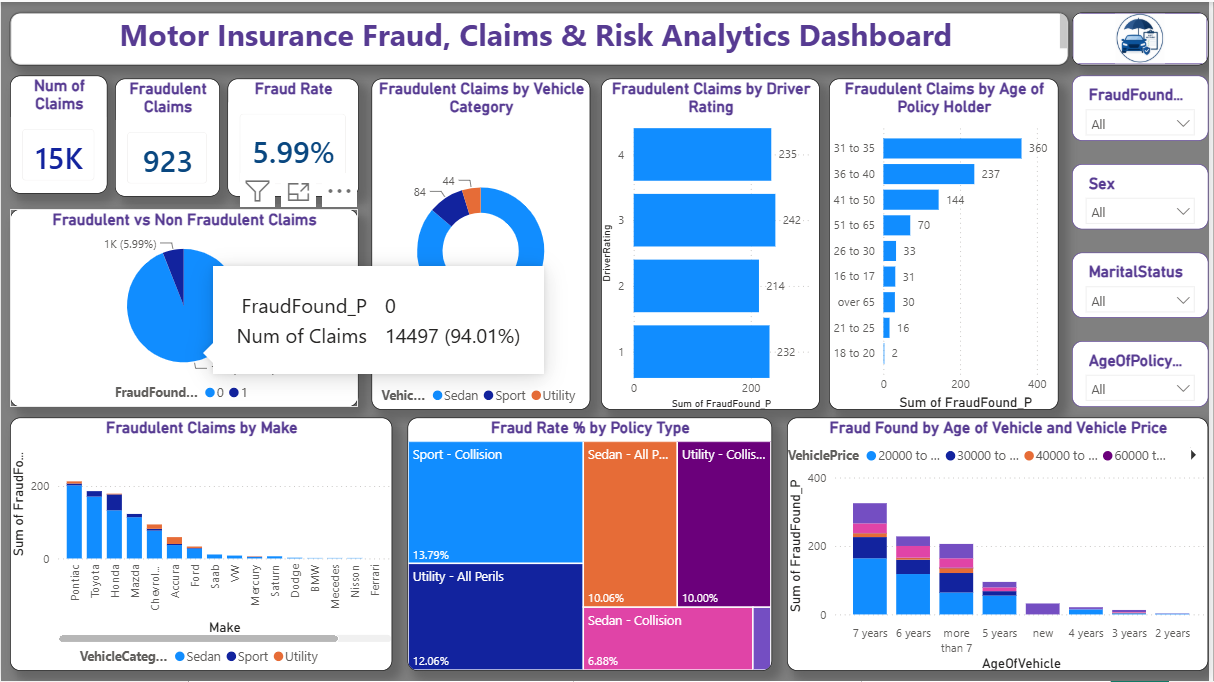

The dashboard page shown, as its layout file describes it:
{"tool":"powerbi","page":{"name":"Motor Insurance Fraud & Risk Overview","canvas":[1280,720],"ordinal":0},"visuals":[{"type":"textbox","box":[9.5,11.1,1123,55.7],"z":0},{"type":"image","box":[1135.7,11.1,144.7,55.7],"z":1000},{"type":"cardVisual","title":"Num of Claims","fields":{"Data":["Fraud_Car_Data.Total Claims"]},"box":[9.5,77.9,103.4,125.7],"z":2000},{"type":"cardVisual","title":"Fraudulent Claims","fields":{"Data":["Sum(Fraud_Car_Data.FraudFound_P)"]},"box":[120.9,81.1,111.3,125.7],"z":3000},{"type":"cardVisual","title":"Fraud Rate","fields":{"Data":["Fraud_Car_Data.Fraud Rate %"]},"box":[240.2,81.1,139,125.7],"z":4000},{"type":"pieChart","title":"Fraudulent vs Non Fraudulent Claims","fields":{"Category":["Fraud_Car_Data.FraudFound_P"],"Y":["Fraud_Car_Data.Total Claims"]},"box":[9.5,219.5,369,210],"z":5000},{"type":"donutChart","title":"Fraudulent Claims by Vehicle Category","fields":{"Category":["Fraud_Car_Data.VehicleCategory"],"Y":["Sum(Fraud_Car_Data.FraudFound_P)"]},"box":[392.9,81.1,232.2,351.5],"z":6000},{"type":"barChart","title":"Fraudulent Claims by Driver Rating","fields":{"Category":["Fraud_Car_Data.DriverRating"],"Y":["Sum(Fraud_Car_Data.FraudFound_P)"]},"box":[635.4,81.1,232.2,351.5],"z":7000},{"type":"clusteredBarChart","title":"Fraudulent Claims by Age of Policy Holder","fields":{"Category":["Fraud_Car_Data.AgeOfPolicyHolder"],"Y":["Sum(Fraud_Car_Data.FraudFound_P)"]},"box":[878,81.1,243.4,351.5],"z":8000},{"type":"slicer","fields":{"Values":["Fraud_Car_Data.FraudFound_P"]},"box":[1135.7,77.9,144.7,69],"z":9000},{"type":"slicer","fields":{"Values":["Fraud_Car_Data.Sex"]},"box":[1135.7,171.8,144.7,69],"z":10000},{"type":"slicer","fields":{"Values":["Fraud_Car_Data.MaritalStatus"]},"box":[1135.7,265.6,144.7,69],"z":11000},{"type":"slicer","fields":{"Values":["Fraud_Car_Data.AgeOfPolicyHolder"]},"box":[1135.7,359.5,144.7,70],"z":12000},{"type":"columnChart","title":"Fraudulent Claims by Make","fields":{"Category":["Fraud_Car_Data.Make"],"Y":["Sum(Fraud_Car_Data.FraudFound_P)"],"Series":["Fraud_Car_Data.VehicleCategory"]},"box":[9.5,440.6,405.6,268.8],"z":13000},{"type":"treemap","title":"Fraud Rate % by Policy Type","fields":{"Group":["Fraud_Car_Data.PolicyType"],"Values":["Fraud_Car_Data.Fraud Rate %"]},"box":[431.1,440.6,386.5,268.8],"z":14000},{"type":"columnChart","title":"Fraud Found by Age of Vehicle and Vehicle Price","fields":{"Category":["Fraud_Car_Data.AgeOfVehicle"],"Series":["Fraud_Car_Data.VehiclePrice"],"Y":["Sum(Fraud_Car_Data.FraudFound_P)"]},"box":[833.5,440.6,447,268.8],"z":15000}]}

Visuals, with their boxes in screenshot pixels (x1, y1, x2, y2), scaled from the page's 1280x720 canvas onto the 1214x682 screenshot:
textbox: 9 11 1074 63
image: 1077 11 1213 63
"Num of Claims" cardVisual: 9 74 107 193
"Fraudulent Claims" cardVisual: 115 77 220 196
"Fraud Rate" cardVisual: 228 77 360 196
"Fraudulent vs Non Fraudulent Claims" pieChart: 9 208 359 407
"Fraudulent Claims by Vehicle Category" donutChart: 373 77 593 410
"Fraudulent Claims by Driver Rating" barChart: 603 77 823 410
"Fraudulent Claims by Age of Policy Holder" clusteredBarChart: 833 77 1064 410
slicer - Fraud_Car_Data.FraudFound_P: 1077 74 1213 139
slicer - Fraud_Car_Data.Sex: 1077 163 1213 228
slicer - Fraud_Car_Data.MaritalStatus: 1077 252 1213 317
slicer - Fraud_Car_Data.AgeOfPolicyHolder: 1077 341 1213 407
"Fraudulent Claims by Make" columnChart: 9 417 394 672
"Fraud Rate % by Policy Type" treemap: 409 417 775 672
"Fraud Found by Age of Vehicle and Vehicle Price" columnChart: 791 417 1213 672
